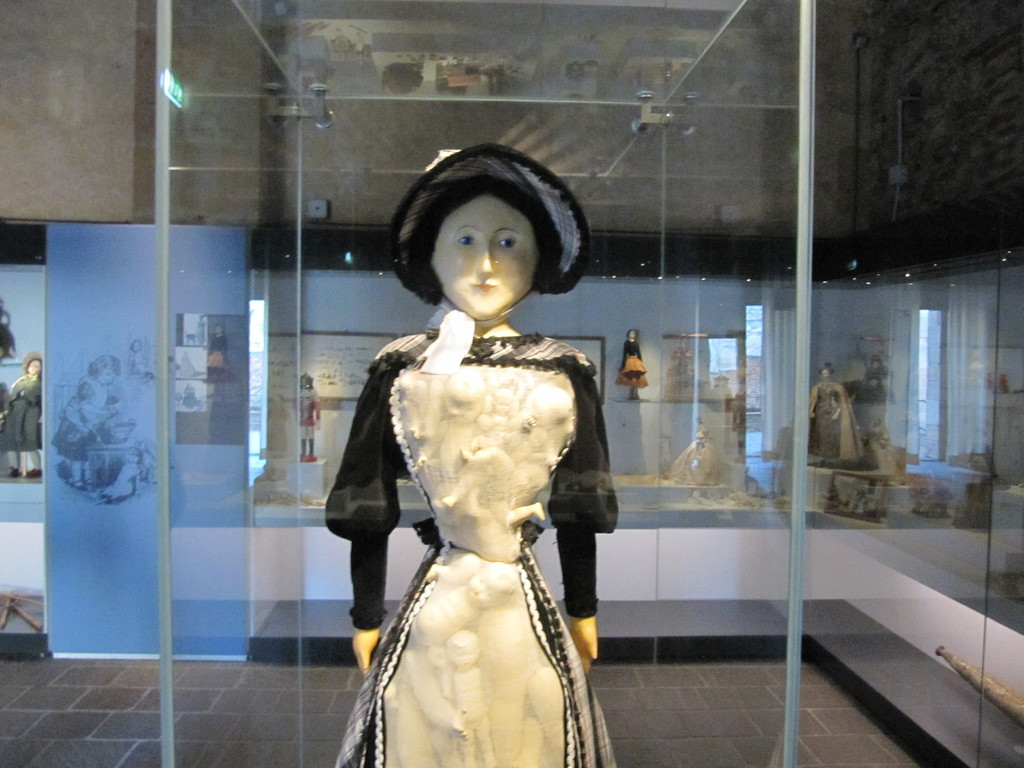Person: (0, 356, 43, 482), (292, 373, 323, 458), (618, 327, 650, 405)
